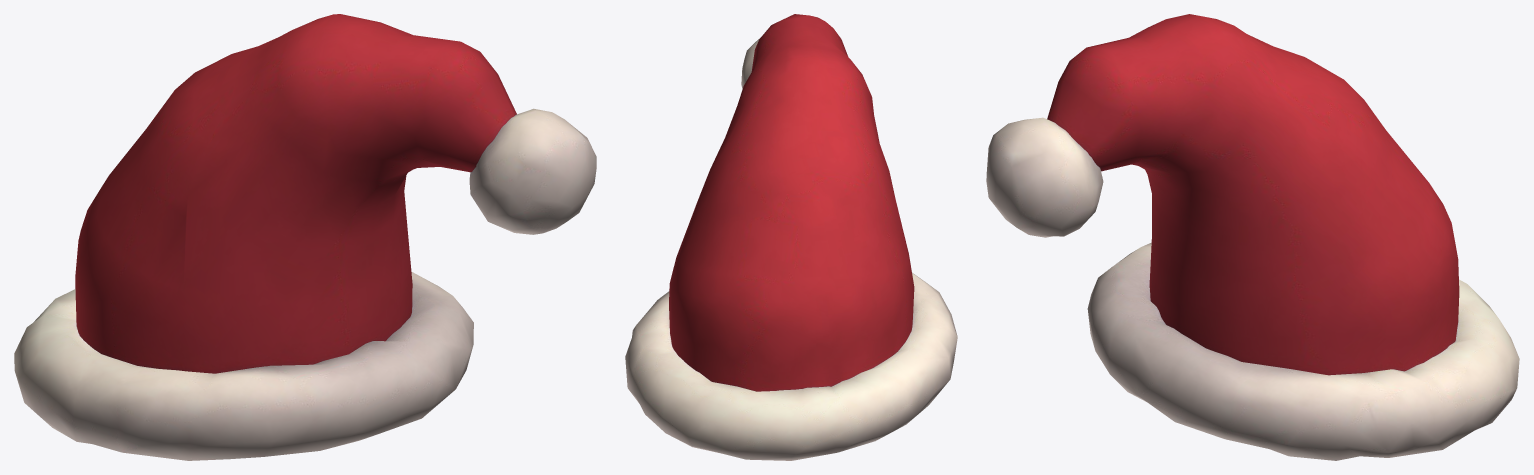
Rendered from hat_santa.glb.
3 views of the same model, side by side, from view 1: azimuth 30°, elevation 25°; view 2: azimuth 150°, elevation 25°; view 3: azimuth 270°, elevation 25° (orthographic). The views are drawn at different scales.
Parts seen in each view (by area): view 1: Hat_Santa_Cap, Hat_Santa_Fur, Hat_Santa_Pom; view 2: Hat_Santa_Cap, Hat_Santa_Fur, Hat_Santa_Pom; view 3: Hat_Santa_Cap, Hat_Santa_Fur, Hat_Santa_Pom.
Part boxes in pixels (x1,y1,x2,y2): Hat_Santa_Cap: [75, 14, 516, 373]; Hat_Santa_Fur: [14, 271, 473, 460]; Hat_Santa_Pom: [469, 108, 596, 234]; Hat_Santa_Cap: [669, 14, 914, 391]; Hat_Santa_Fur: [625, 272, 957, 460]; Hat_Santa_Pom: [741, 38, 759, 88]; Hat_Santa_Cap: [1047, 14, 1459, 375]; Hat_Santa_Fur: [1087, 242, 1519, 460]; Hat_Santa_Pom: [986, 117, 1103, 237].
Size of the model in its own units: 0.3049 by 0.3135 by 0.3834.
1 material, 1 textured.
